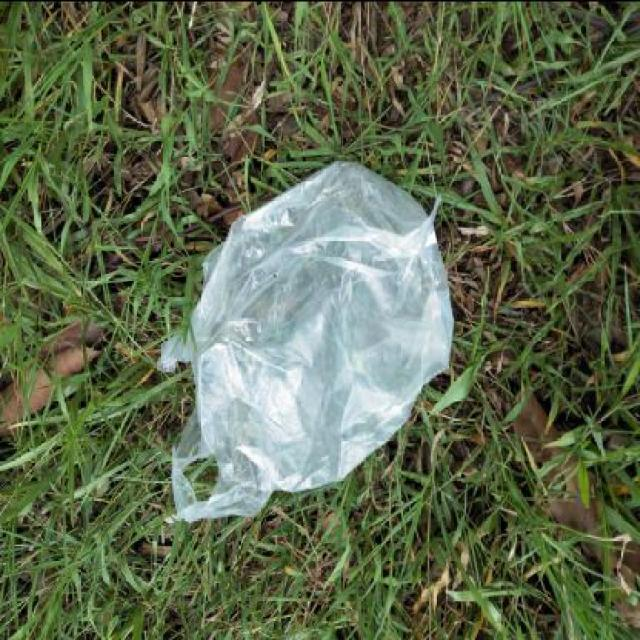plastic: (156, 159, 455, 519)
